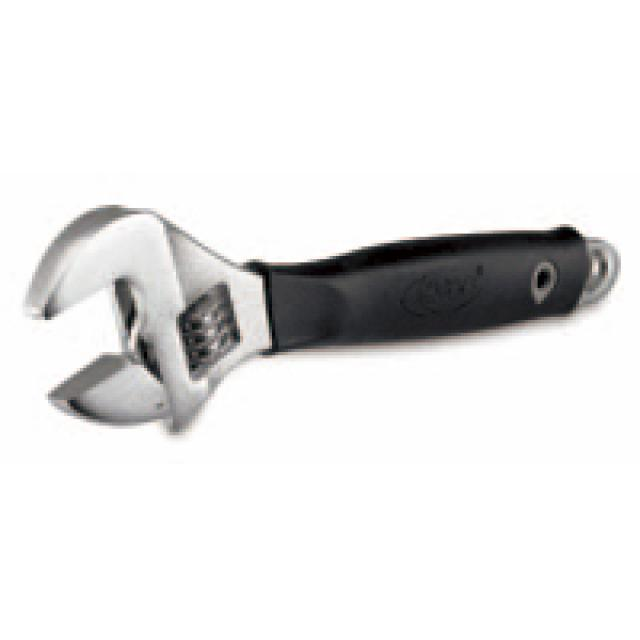wrench: (16, 132, 640, 466)
